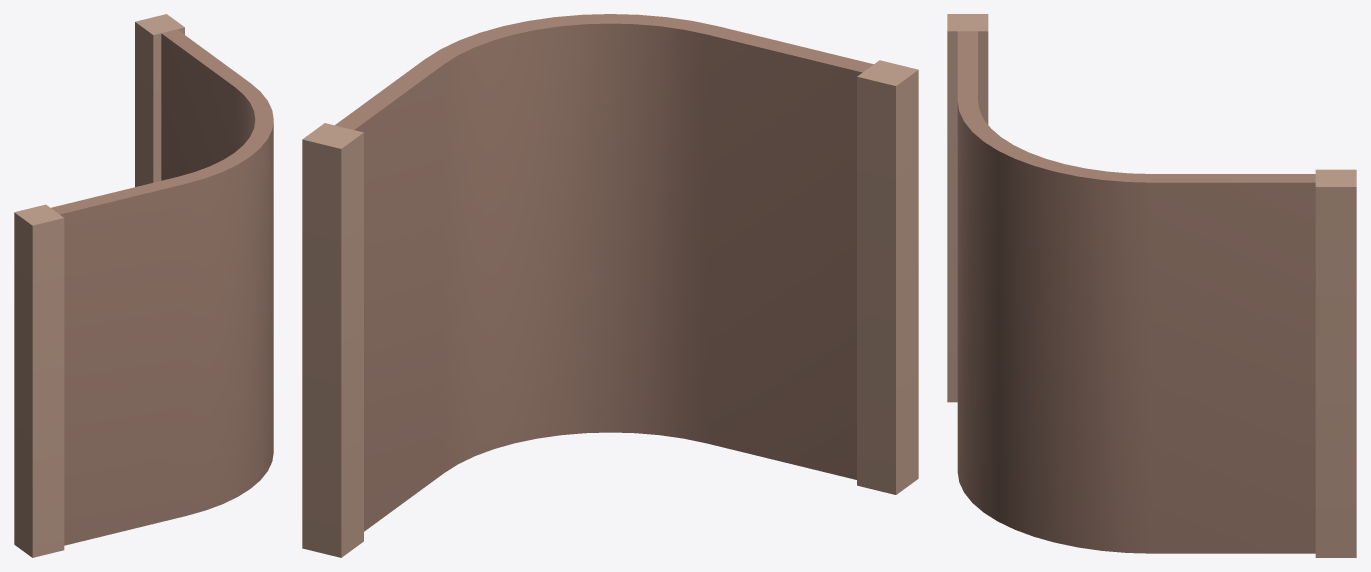
The model's file is wall-wood-rounded.glb.
The picture shows the model from 3 angles, left to right: view 1: azimuth 30°, elevation 25°; view 2: azimuth 150°, elevation 25°; view 3: azimuth 270°, elevation 25°; orthographic projection. The views are drawn at different scales.
Parts seen in each view (by area): view 1: wall-wood-rounded; view 2: wall-wood-rounded; view 3: wall-wood-rounded.
Boxes of the visible parts, x1,y1,x2,y2 form: wall-wood-rounded: (14,14,273,557); wall-wood-rounded: (302,14,918,557); wall-wood-rounded: (947,14,1356,557).
Size of the model in its own units: 1 by 1 by 1.
